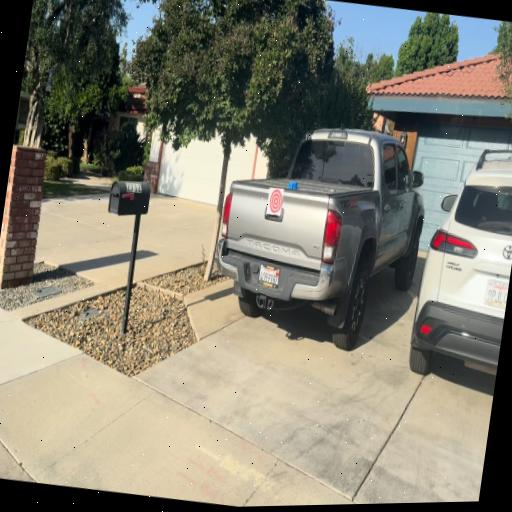bullseye: (267, 187, 284, 216)
